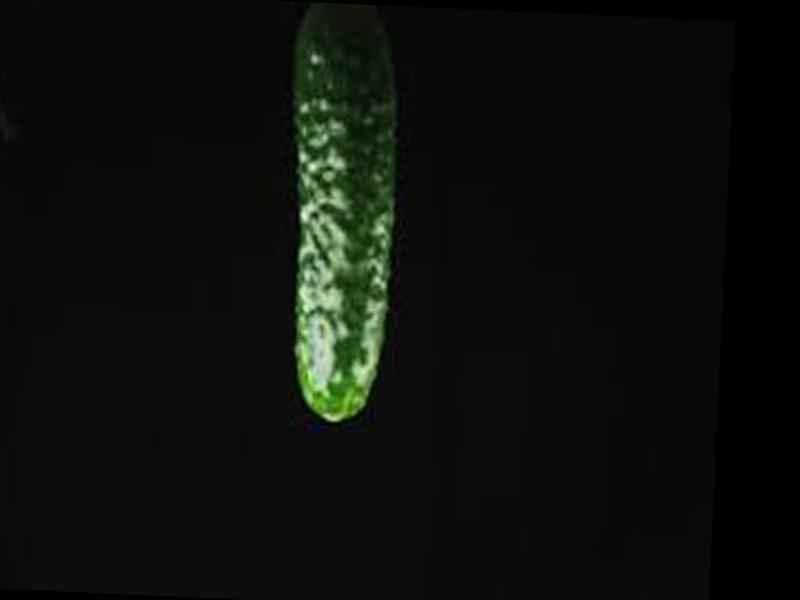Cucumber: (276, 0, 404, 426)
